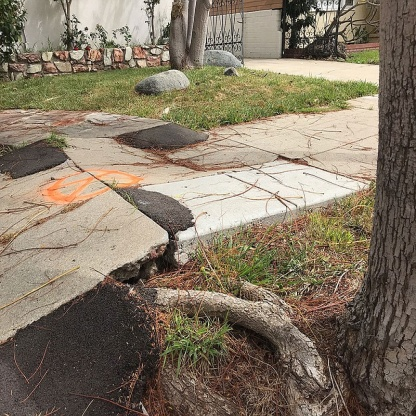pothole: (92, 183, 198, 283)
